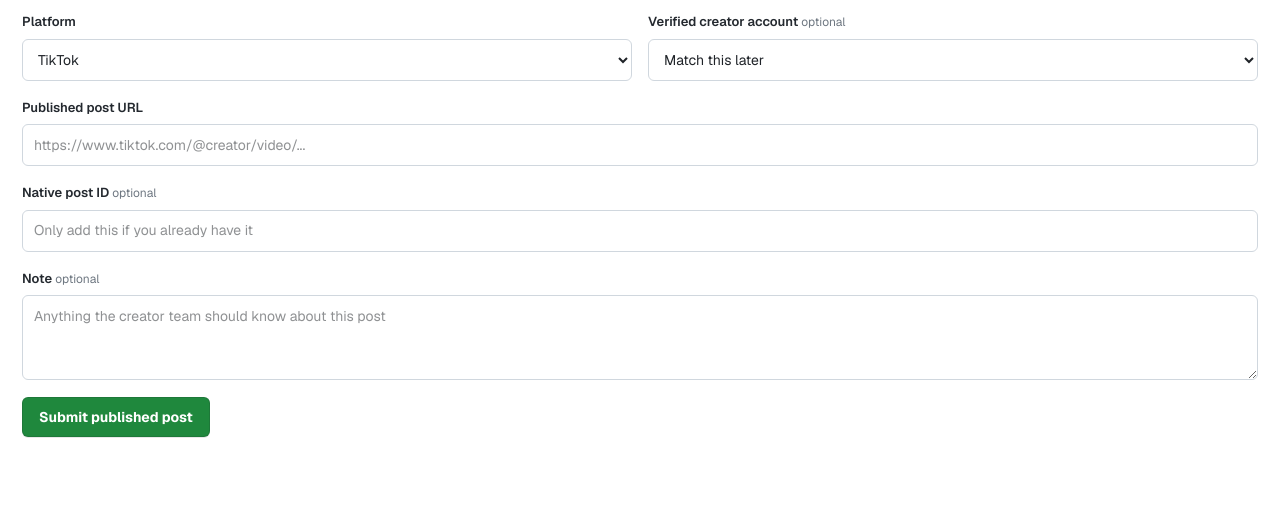
Scenario: content submission form › submits published content without accepting attribution or earning controls
Select "@creator" in the dropdown labelled "Verified creator account optional" at (953, 60), box [648, 38, 1258, 80]
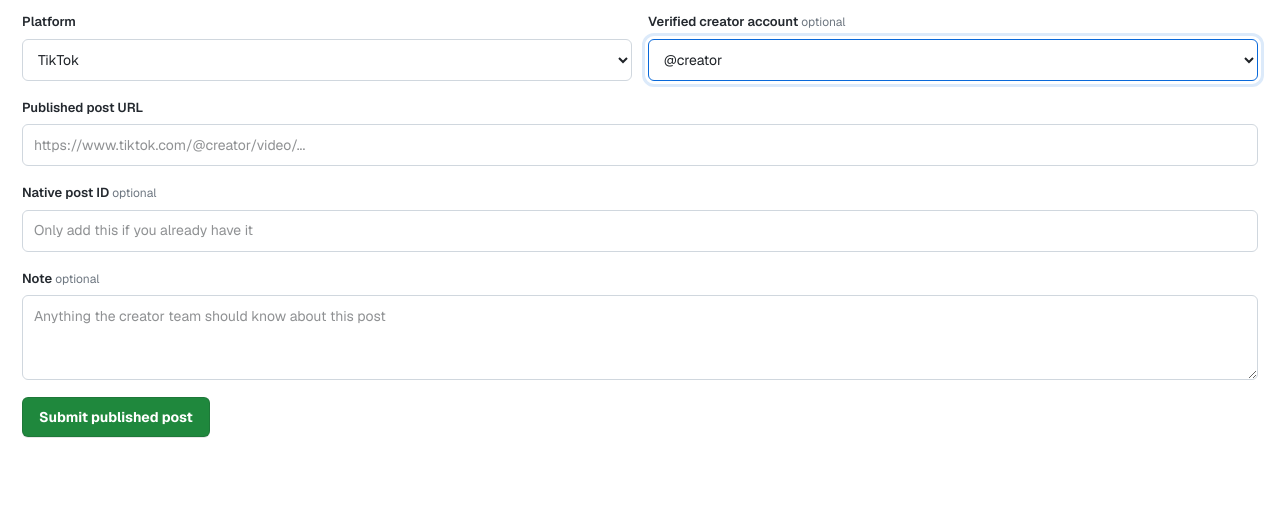
Type "https://tiktok.com/@creator/video/123" into the field labelled "Published post URL" at (640, 145), box [22, 124, 1258, 166]
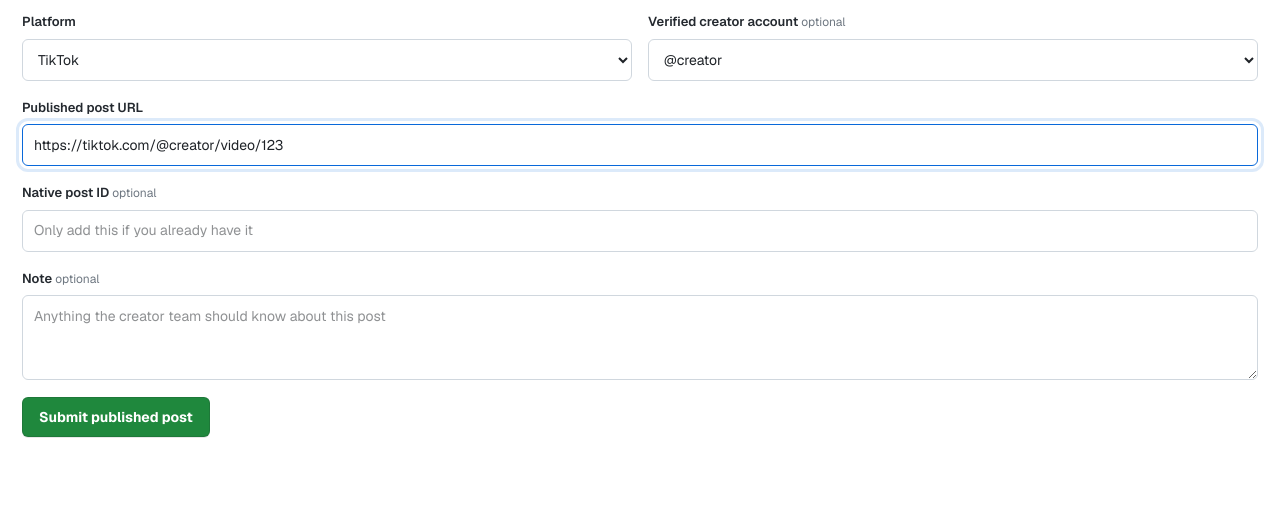
Type "123" into the field labelled "Native post ID optional" at (640, 230), box [22, 210, 1258, 252]
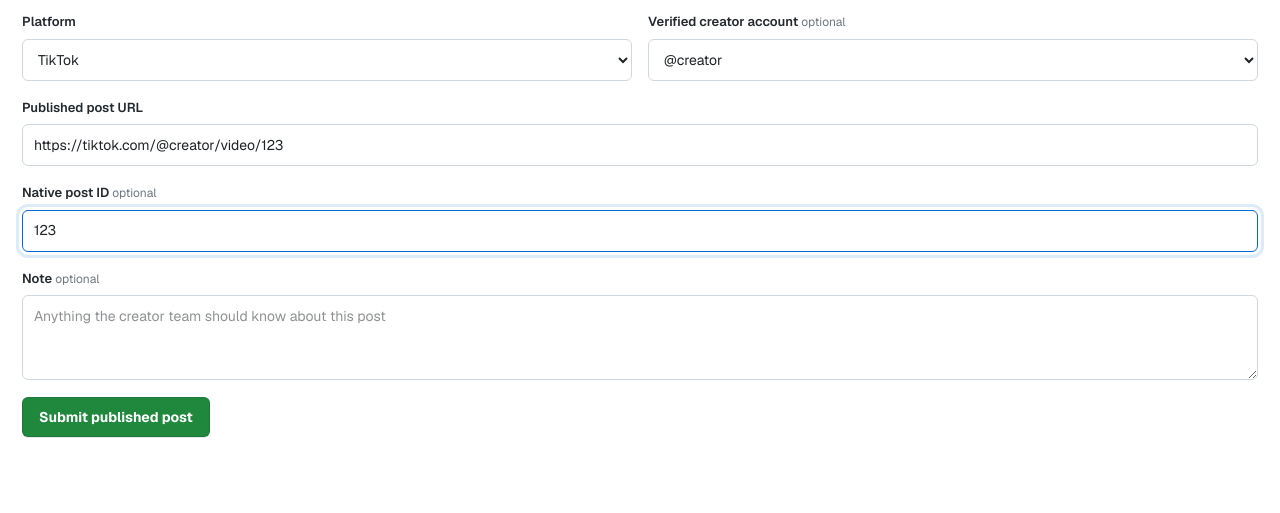
Type "Campaign launch" into the text box labelled "Note optional" at (640, 338), box [22, 295, 1258, 380]
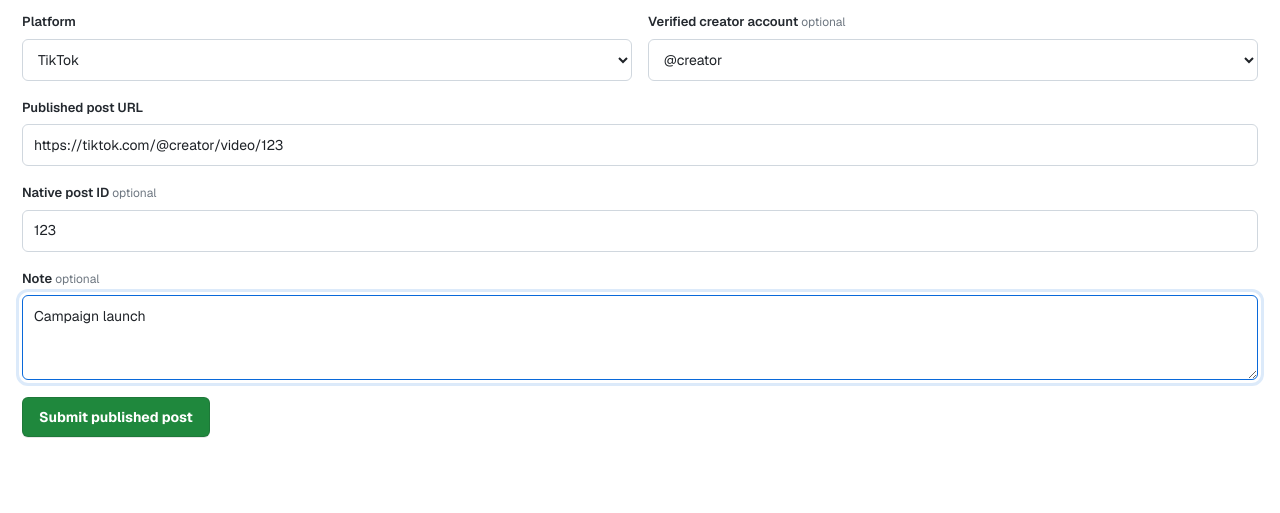
Click the button "Submit published post" at (116, 417), box [22, 397, 210, 437]
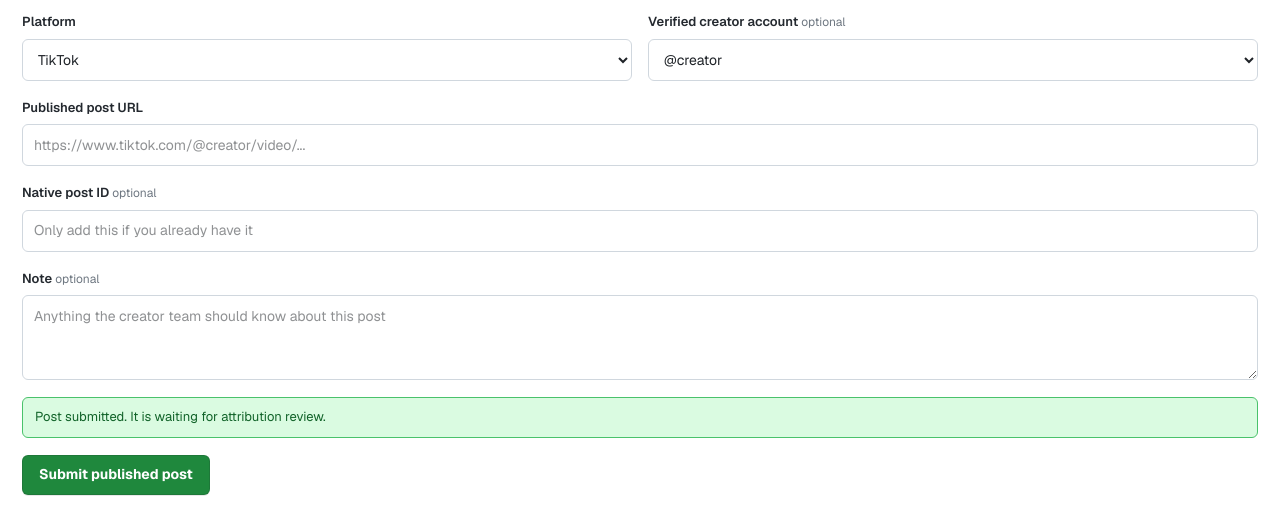
Expected: the message shows "waiting for attribution review", [35, 408, 326, 425]
